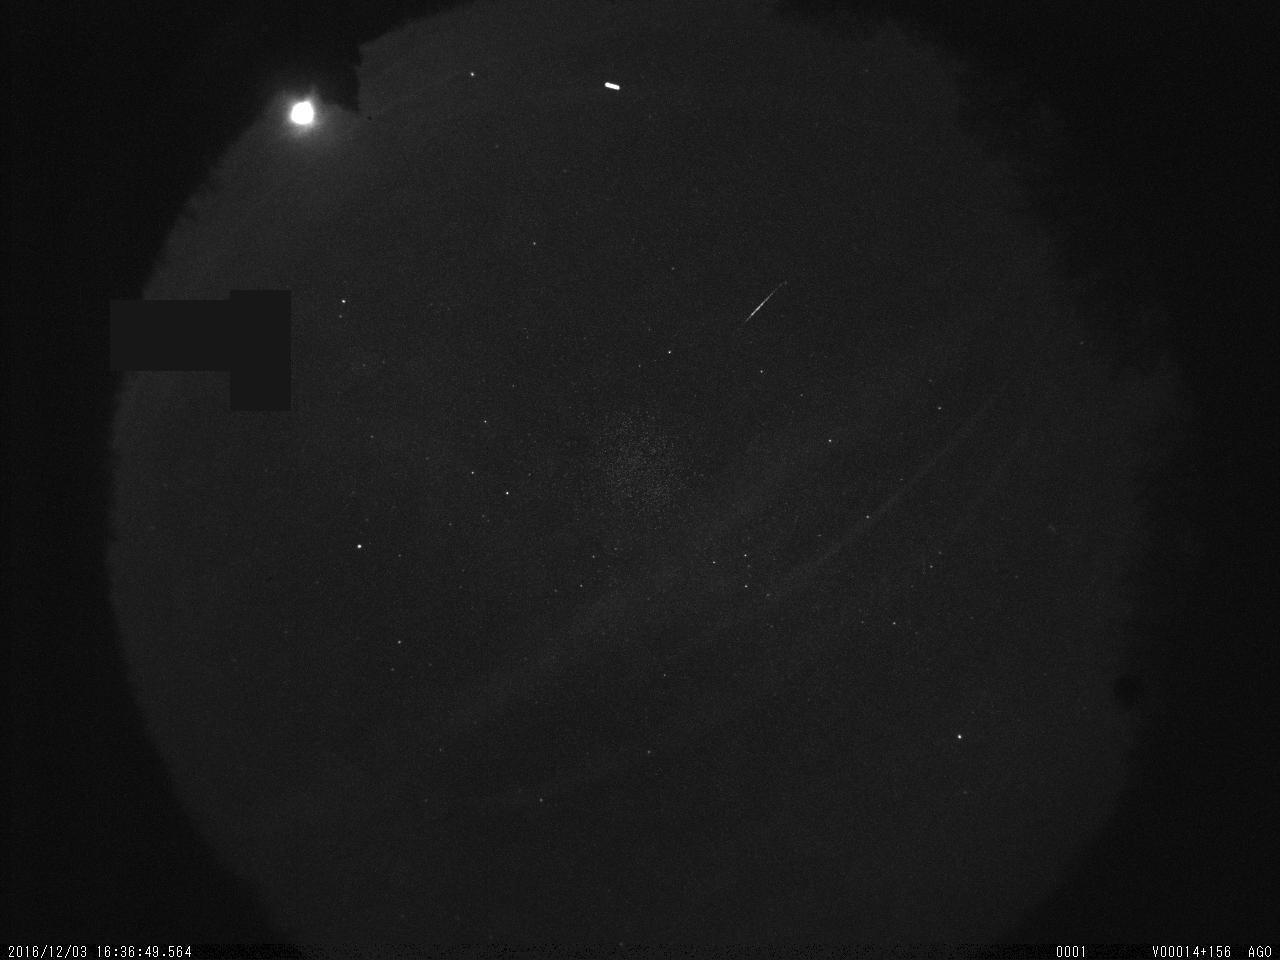meteor: (725, 278, 788, 342)
